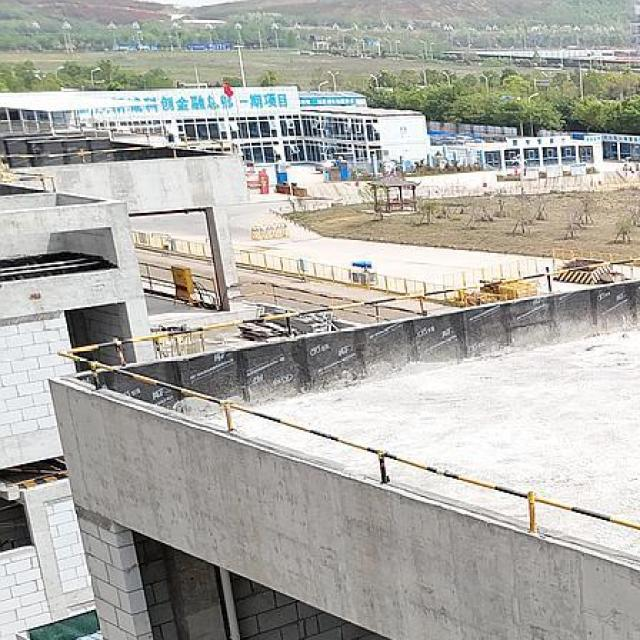edge_guardrail: (57, 253, 640, 530), (0, 127, 237, 164), (226, 280, 421, 324), (137, 261, 219, 306), (0, 168, 56, 193)
